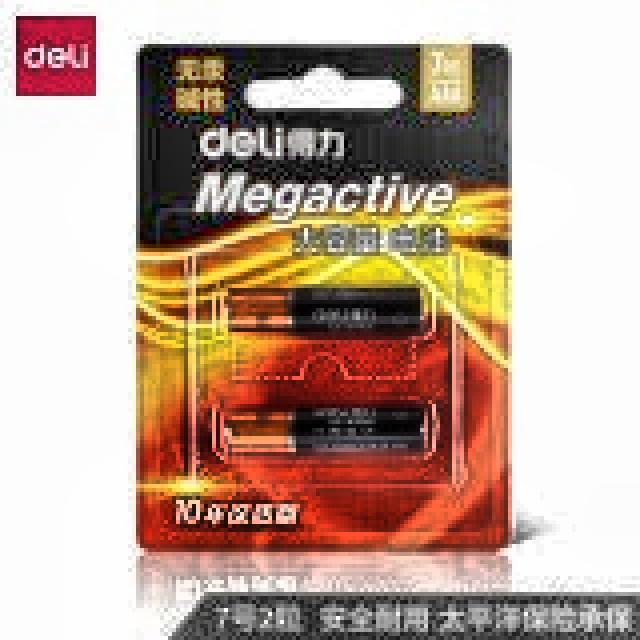Non-Valuable Waste - Batteries: (212, 406, 426, 455), (229, 289, 419, 331)
